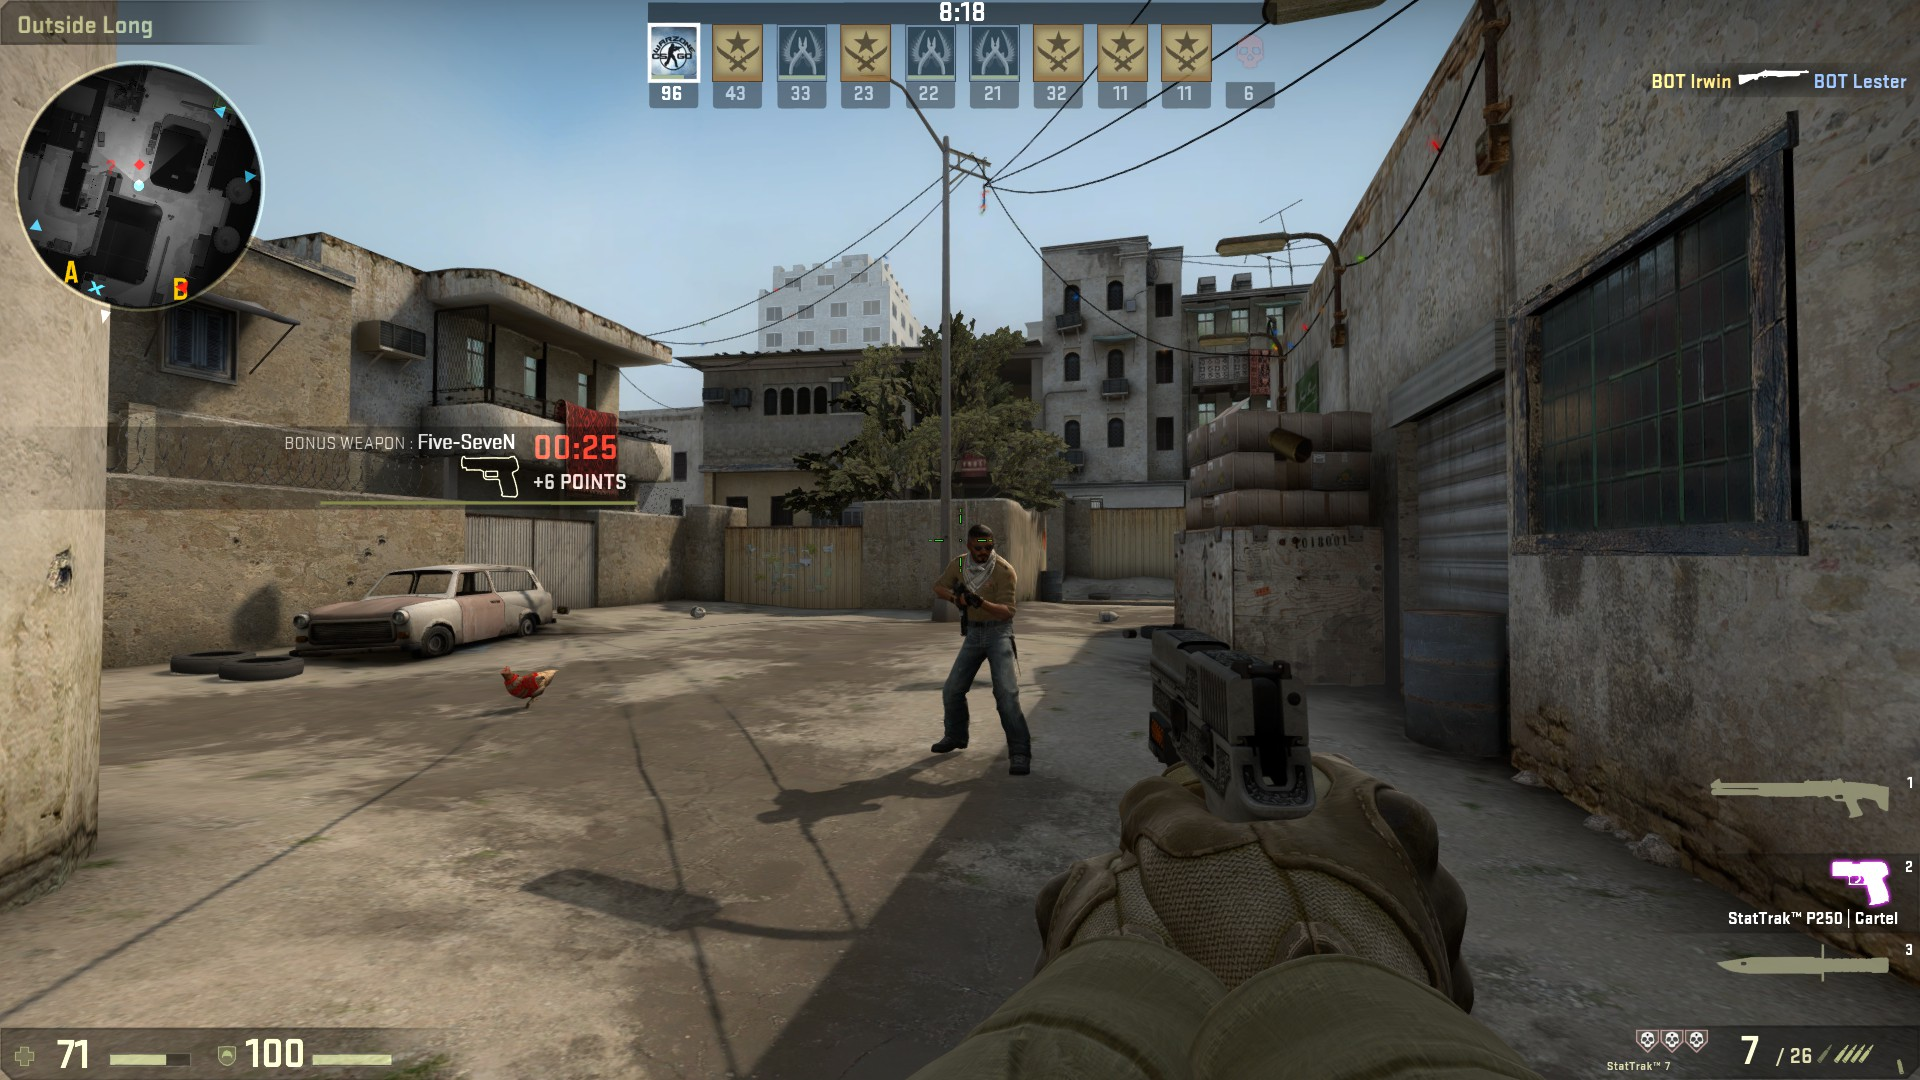t: (934, 524, 1035, 773)
th: (961, 524, 997, 567)
